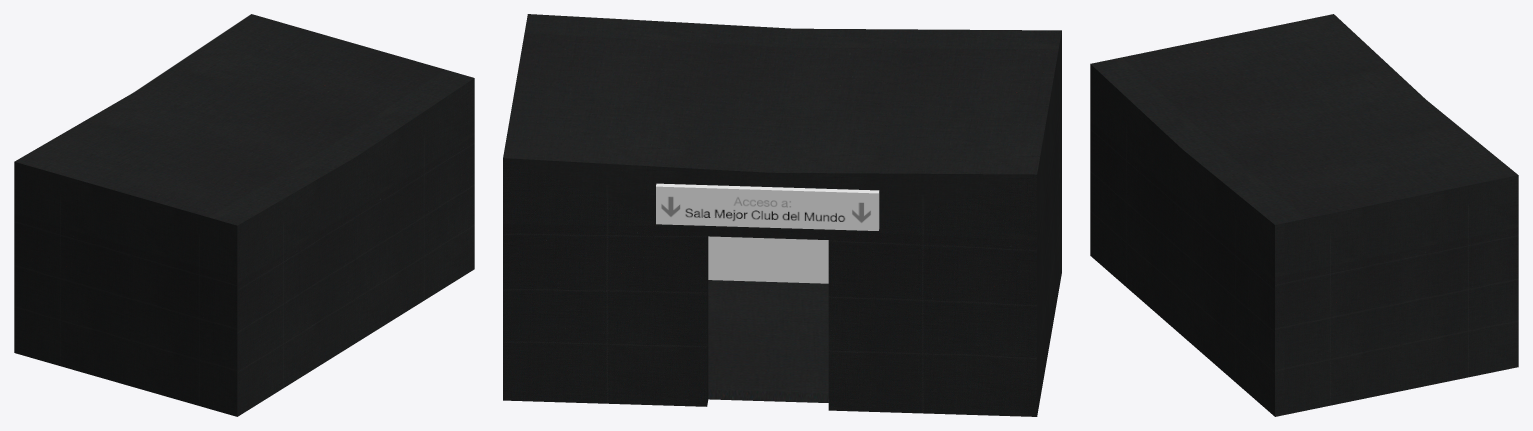
Rendered from accesoSalaMejorClub.FBX.
3 views of the same model, side by side, from view 1: azimuth 30°, elevation 25°; view 2: azimuth 150°, elevation 25°; view 3: azimuth 270°, elevation 25° (orthographic). The views are drawn at different scales.
Visible parts, largest first — view 1: accesoSalaMejorClub; view 2: accesoSalaMejorClub; view 3: accesoSalaMejorClub.
Boxes of the visible parts, <box> form: accesoSalaMejorClub: <box>14,14,474,416</box>; accesoSalaMejorClub: <box>503,14,1061,416</box>; accesoSalaMejorClub: <box>1090,14,1518,416</box>.
Size of the model in its own units: 558 by 236 by 478.
2 materials, 1 textured.
